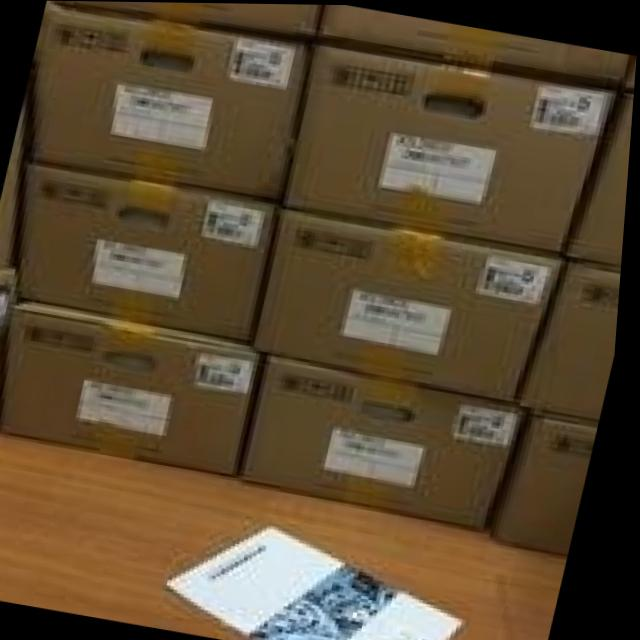box: (285, 47, 614, 257), (258, 210, 565, 403), (35, 10, 309, 199), (242, 357, 525, 527), (22, 167, 278, 344), (5, 298, 261, 474), (323, 4, 630, 81), (526, 260, 625, 417), (502, 412, 601, 552), (574, 91, 635, 264), (51, 1, 318, 34), (0, 113, 26, 268), (0, 273, 23, 422)
